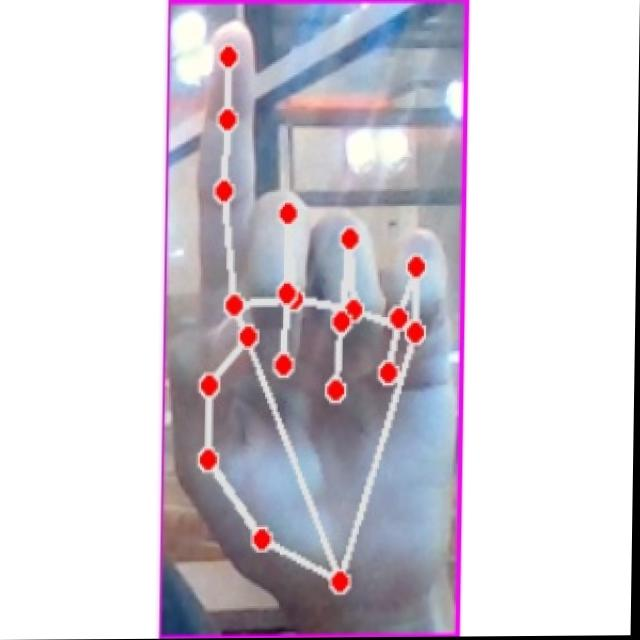D: (170, 12, 457, 613)
